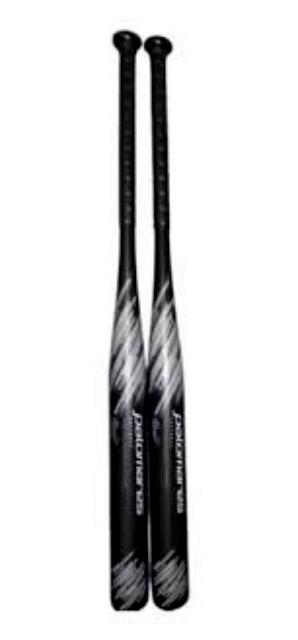baseball bat: (143, 34, 189, 608), (108, 29, 148, 610)
